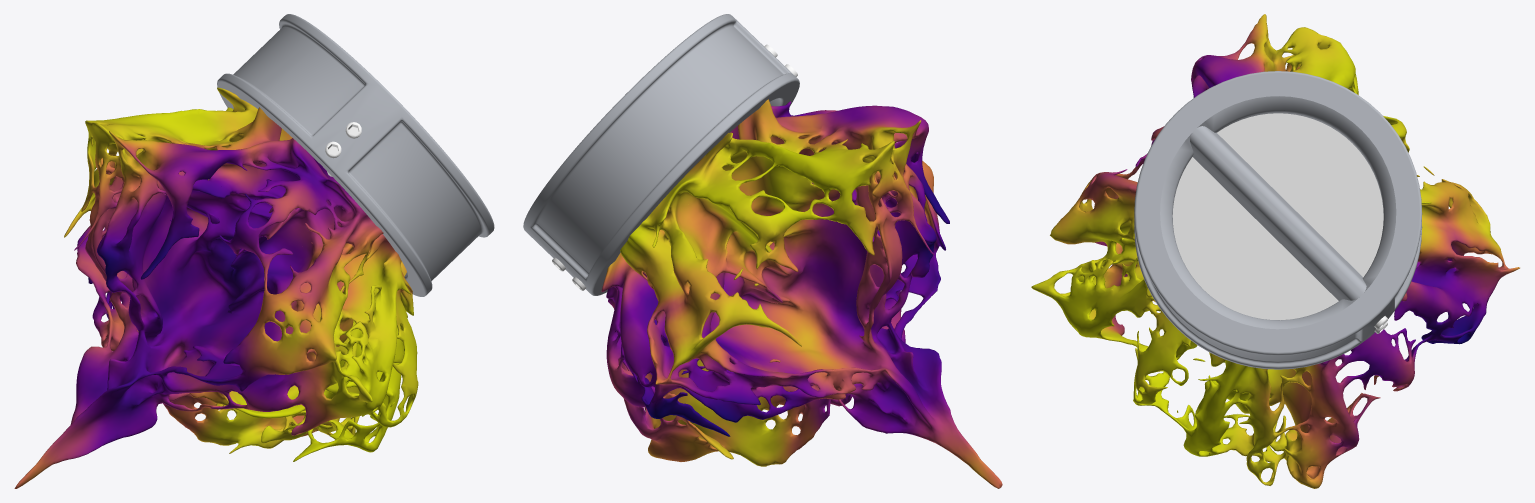
The model's file is pressureValve.gltf.
3 views of the same model, side by side, from view 1: azimuth 30°, elevation 25°; view 2: azimuth 150°, elevation 25°; view 3: azimuth 270°, elevation 25° (orthographic). The views are drawn at different scales.
Parts seen in each view (by area): view 1: comp; view 2: comp; view 3: comp.
Part boxes in pixels (x1,y1,x2,y2): comp: [14, 14, 494, 488]; comp: [523, 14, 1002, 488]; comp: [1031, 14, 1519, 488].
Size of the model in its own units: 15 by 13.47 by 14.75.
